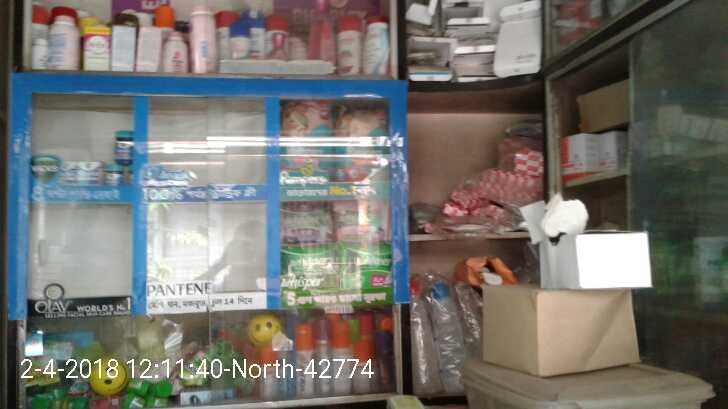vicks: (61, 128, 136, 181)
